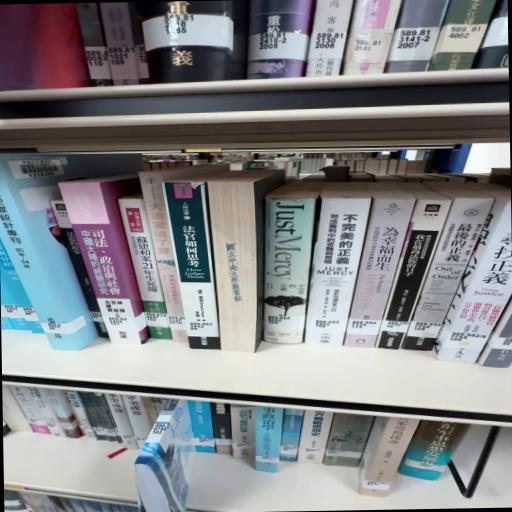backward: (208, 168, 286, 354)
